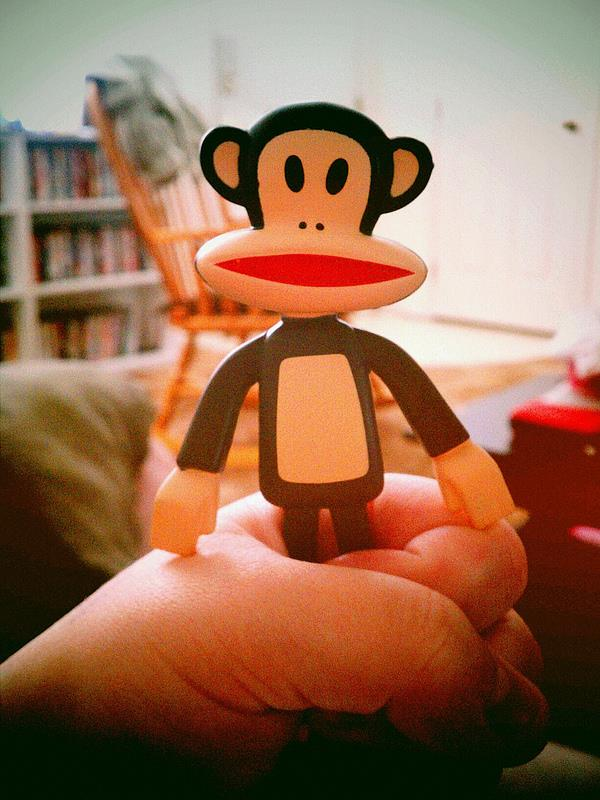Paul_Frank_Julius: (149, 107, 518, 558)
